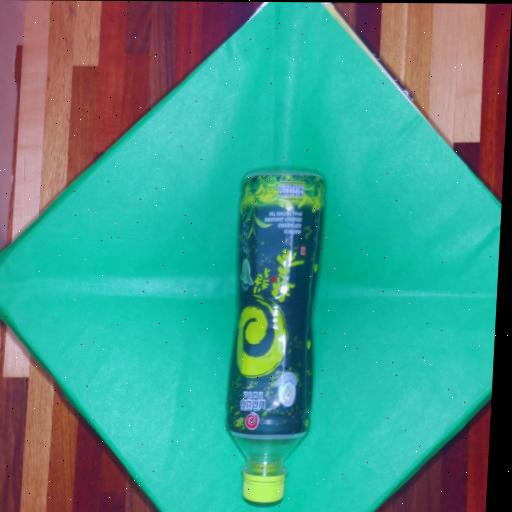bottle: (212, 137, 346, 512)
